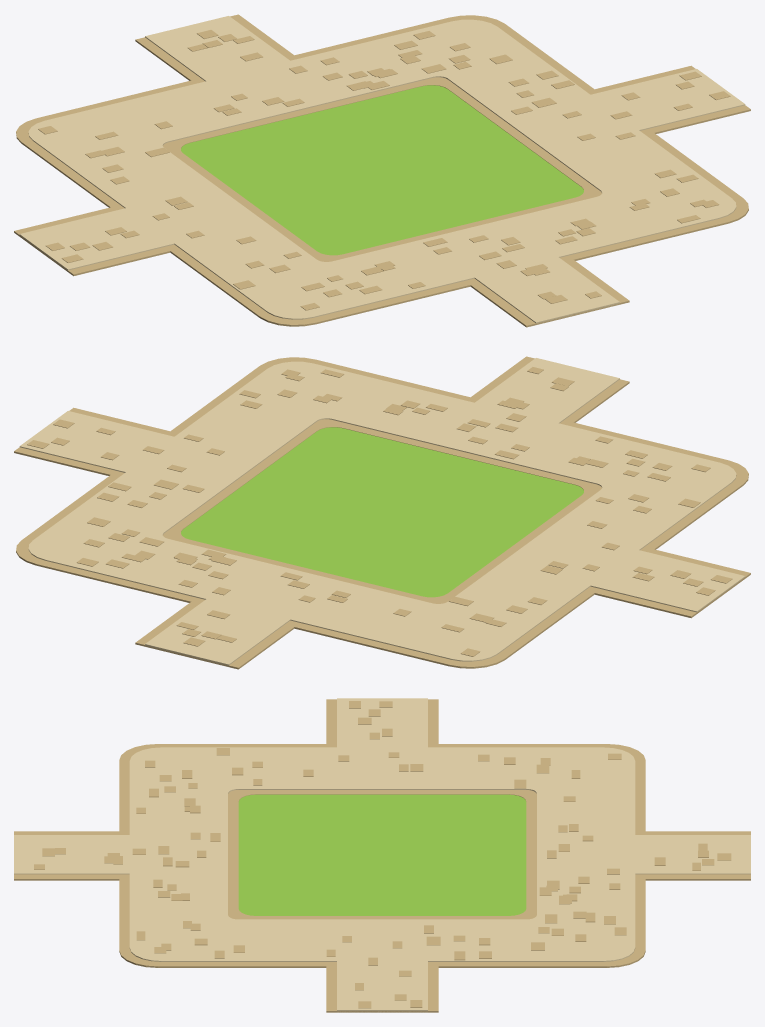
File: plaza_cuadrada.glb
The picture shows the model from 3 angles, top to bottom: view 1: azimuth 30°, elevation 25°; view 2: azimuth 150°, elevation 25°; view 3: azimuth 270°, elevation 25°; orthographic projection. The views are drawn at different scales.
Visible parts, largest first — view 1: plaza, cesped, brazos, plaza_borde, adoquines, brazos_borde; view 2: plaza, cesped, brazos, plaza_borde, adoquines, brazos_borde; view 3: plaza, cesped, brazos, plaza_borde, adoquines, brazos_borde.
Boxes of the visible parts, x1,y1,x2,y2 form: plaza: (28, 19, 736, 319); cesped: (181, 85, 583, 255); brazos: (19, 16, 745, 324); plaza_borde: (16, 15, 748, 326); adoquines: (38, 30, 730, 310); brazos_borde: (14, 14, 750, 327); plaza: (28, 361, 736, 661); cesped: (181, 427, 583, 597); brazos: (19, 358, 745, 666); plaza_borde: (16, 357, 748, 668); adoquines: (27, 367, 732, 656); brazos_borde: (14, 356, 750, 669); plaza: (129, 747, 635, 961); cesped: (238, 794, 526, 915); brazos: (14, 698, 750, 1012); plaza_borde: (119, 744, 645, 967); adoquines: (34, 701, 731, 1008); brazos_borde: (14, 699, 750, 1012).
Size of the model in its own units: 21 by 0.095 by 21.
